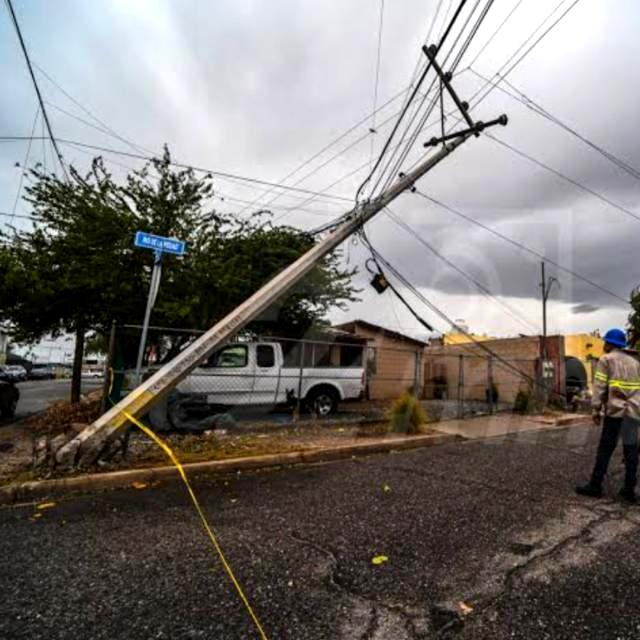Broken Pole: (50, 37, 517, 476)
